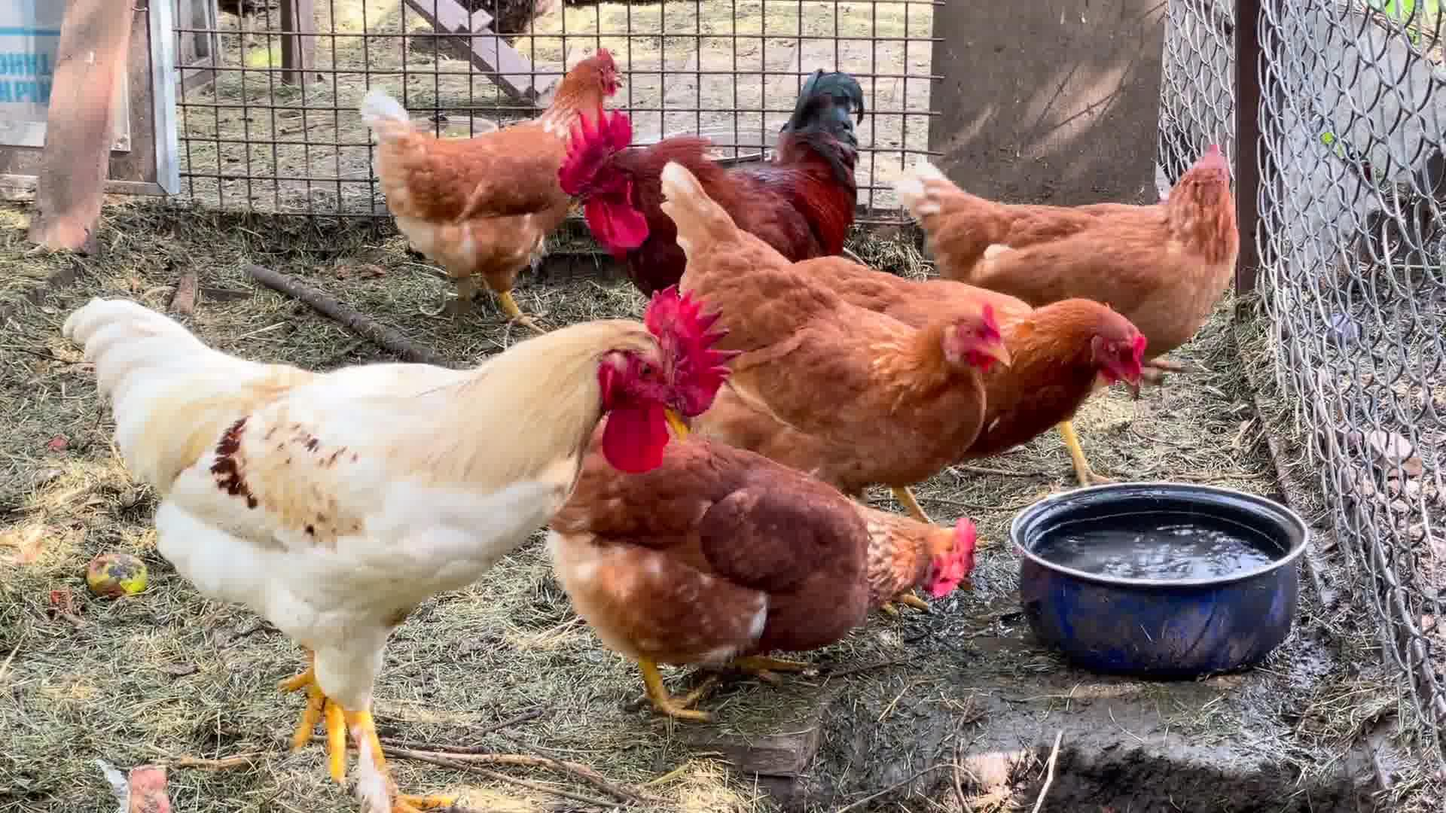Normal: (66, 286, 727, 809), (637, 155, 1224, 524), (610, 409, 995, 740), (332, 49, 646, 313), (900, 140, 1247, 365), (584, 55, 896, 274)
